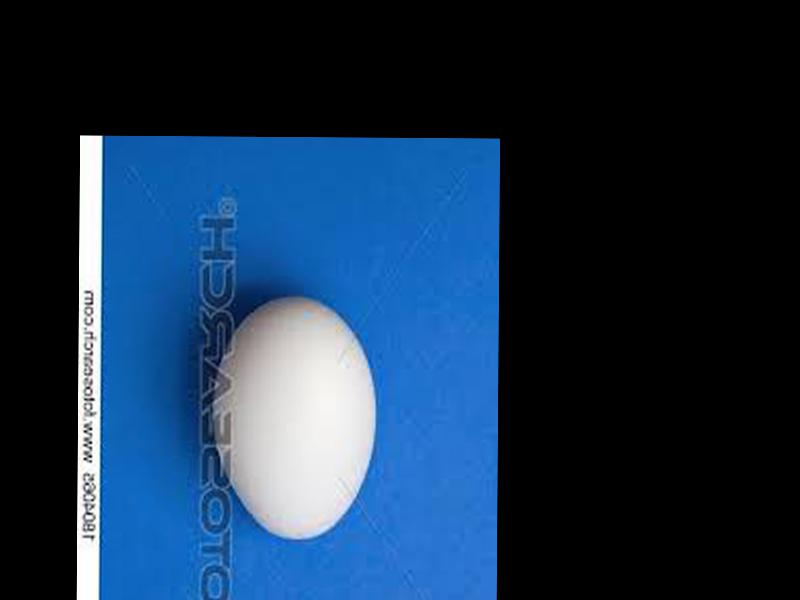Eggs: (207, 296, 376, 539)
